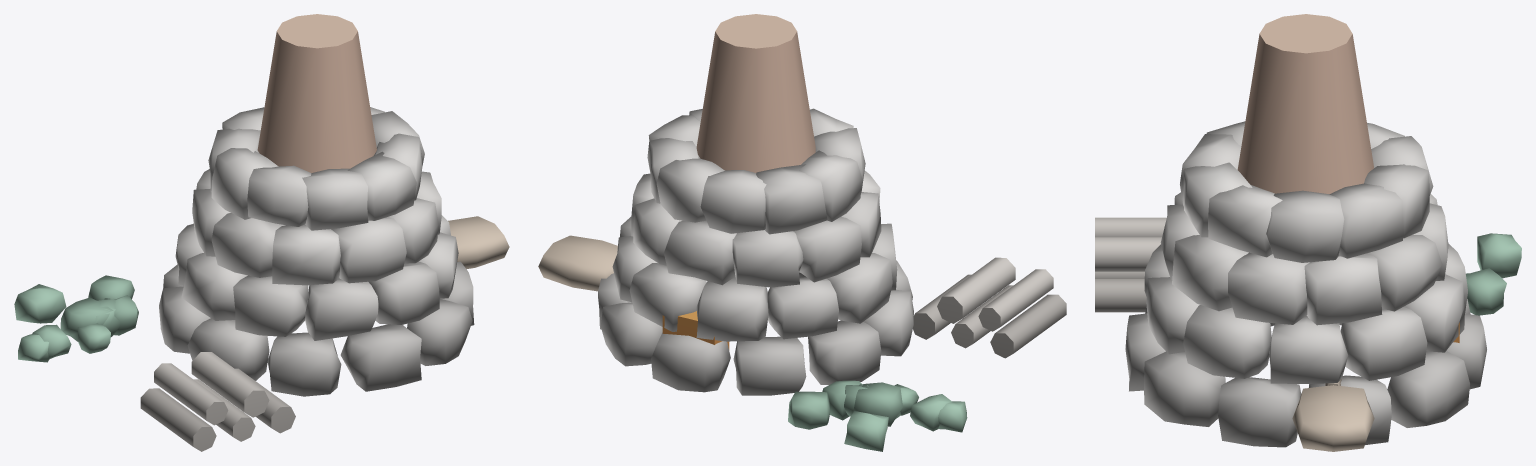
The model's file is hw_copper_smelter.glb.
The picture shows the model from 3 angles, left to right: view 1: azimuth 30°, elevation 25°; view 2: azimuth 150°, elevation 25°; view 3: azimuth 270°, elevation 25°; orthographic projection. The views are drawn at different scales.
Parts seen in each view (by area): view 1: Building; view 2: Building; view 3: Building.
Part boxes in pixels (x1,y1,x2,y2): Building: (14, 14, 509, 451); Building: (538, 14, 1066, 451); Building: (1095, 14, 1521, 451).
Size of the model in its own units: 2.17 by 1.4 by 1.56.
